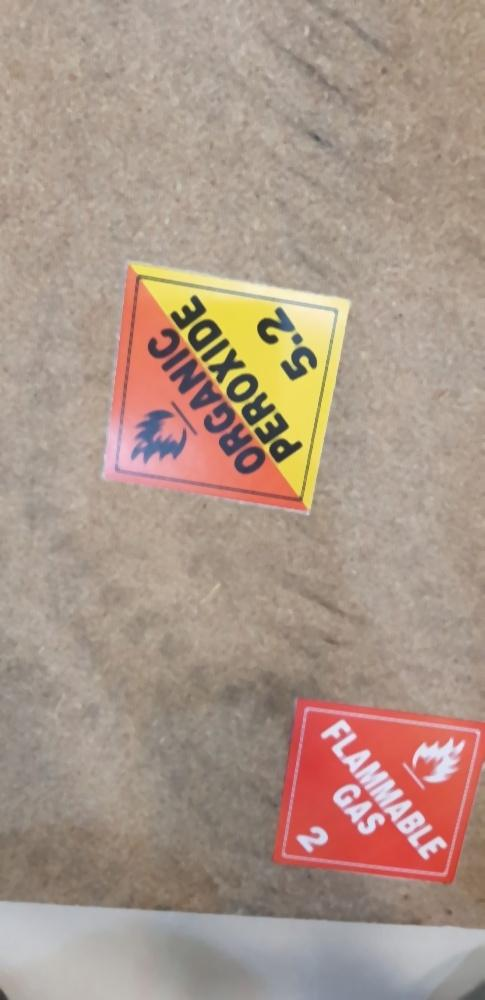flammable: (273, 689, 481, 887)
organic-peroxide: (98, 256, 357, 511)
